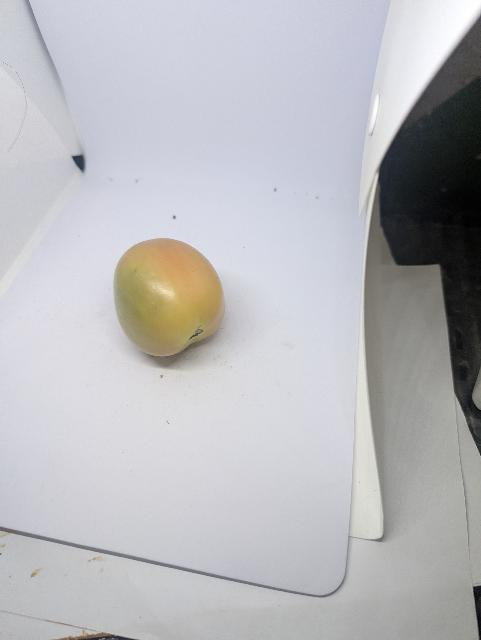breaker: (111, 235, 230, 359)
